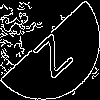Z: (25, 25, 75, 79)
